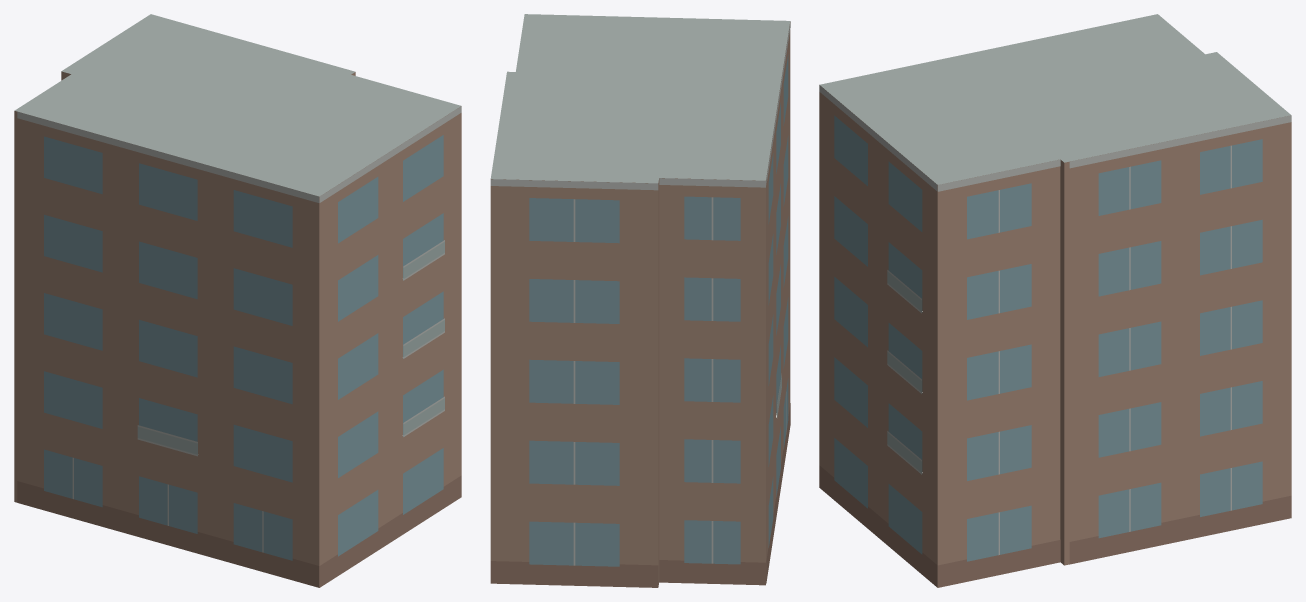
The model's file is survey-upis-32533296.glb.
The picture shows the model from 3 angles, left to right: view 1: azimuth 30°, elevation 25°; view 2: azimuth 150°, elevation 25°; view 3: azimuth 270°, elevation 25°; orthographic projection. The views are drawn at different scales.
Parts seen in each view (by area): view 1: survey-upis-32533296.tmp; view 2: survey-upis-32533296.tmp; view 3: survey-upis-32533296.tmp.
Part boxes in pixels (bbox=[...]): survey-upis-32533296.tmp: bbox=[14, 14, 461, 587]; survey-upis-32533296.tmp: bbox=[490, 14, 790, 587]; survey-upis-32533296.tmp: bbox=[819, 14, 1291, 587].
Size of the model in its own units: 13.02 by 14.3 by 15.2.
